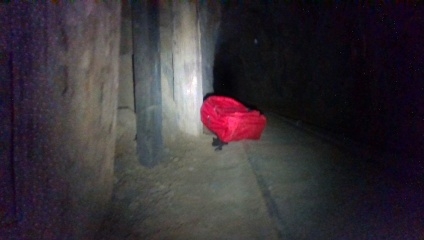backpack: (197, 92, 268, 144)
